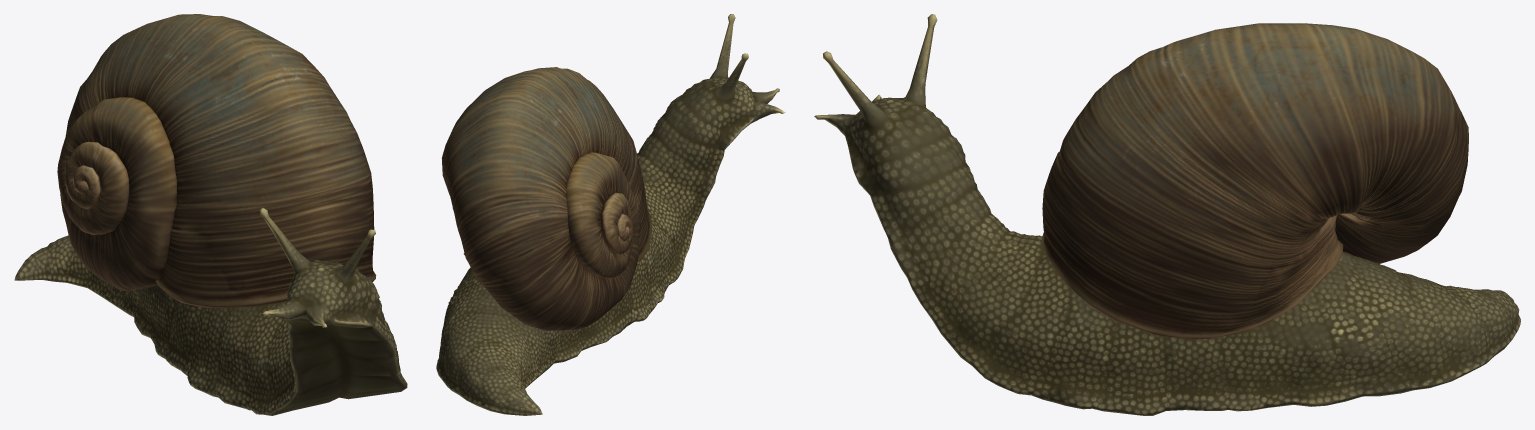
Rendered from MZ4250 - Giant Snail.glb.
3 views of the same model, side by side, from view 1: azimuth 30°, elevation 25°; view 2: azimuth 150°, elevation 25°; view 3: azimuth 270°, elevation 25° (orthographic). The views are drawn at different scales.
Visible parts, largest first — view 1: shell_low.001, snail_low.001; view 2: shell_low.001, snail_low.001; view 3: shell_low.001, snail_low.001.
Boxes of the visible parts, x1,y1,x2,y2 form: shell_low.001: [57, 14, 376, 308]; snail_low.001: [14, 208, 407, 415]; shell_low.001: [441, 67, 651, 330]; snail_low.001: [436, 14, 785, 415]; shell_low.001: [1042, 23, 1468, 339]; snail_low.001: [814, 14, 1520, 415].
Size of the model in its own units: 13.17 by 15.97 by 29.72.
1 material, 1 textured.
